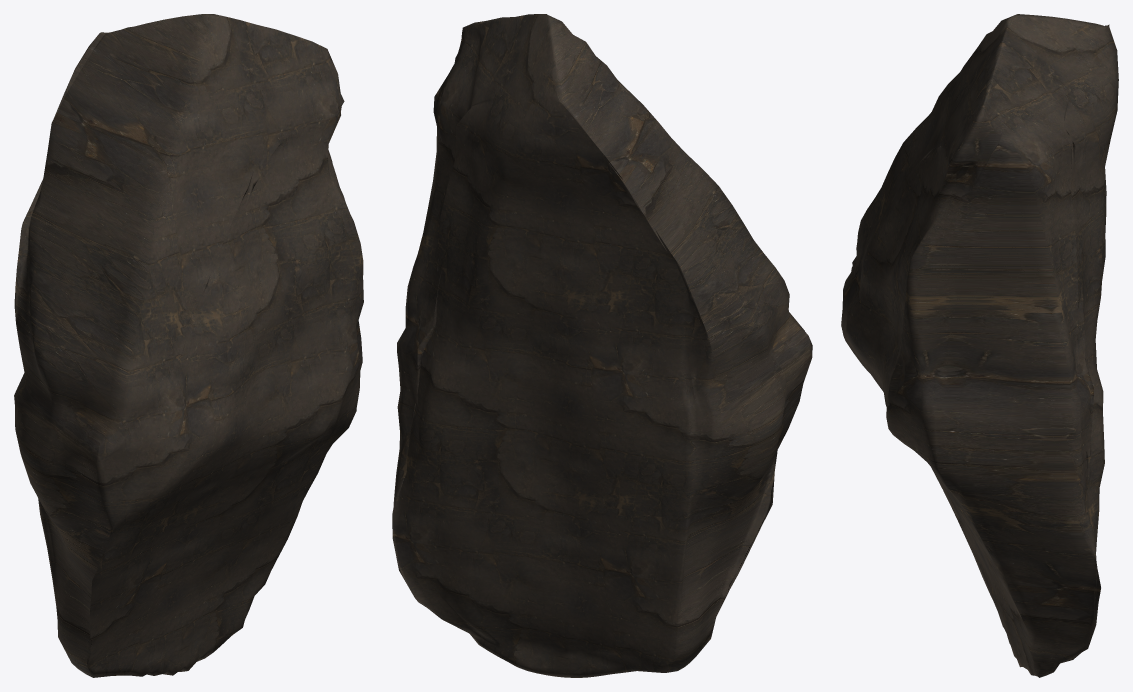
File: cliff_buttress_a_lod0.gltf
3 views of the same model, side by side, from view 1: azimuth 30°, elevation 25°; view 2: azimuth 150°, elevation 25°; view 3: azimuth 270°, elevation 25° (orthographic).
Parts seen in each view (by area): view 1: cliff_buttress_a_LOD0; view 2: cliff_buttress_a_LOD0; view 3: cliff_buttress_a_LOD0.
Part boxes in pixels (bbox=[...]): cliff_buttress_a_LOD0: bbox=[14, 14, 363, 677]; cliff_buttress_a_LOD0: bbox=[392, 14, 812, 677]; cliff_buttress_a_LOD0: bbox=[841, 14, 1118, 677].
Bounding box in the file's own units: 13.53 × 26 × 9.92.
Materials: 1 (1 with a texture image).
